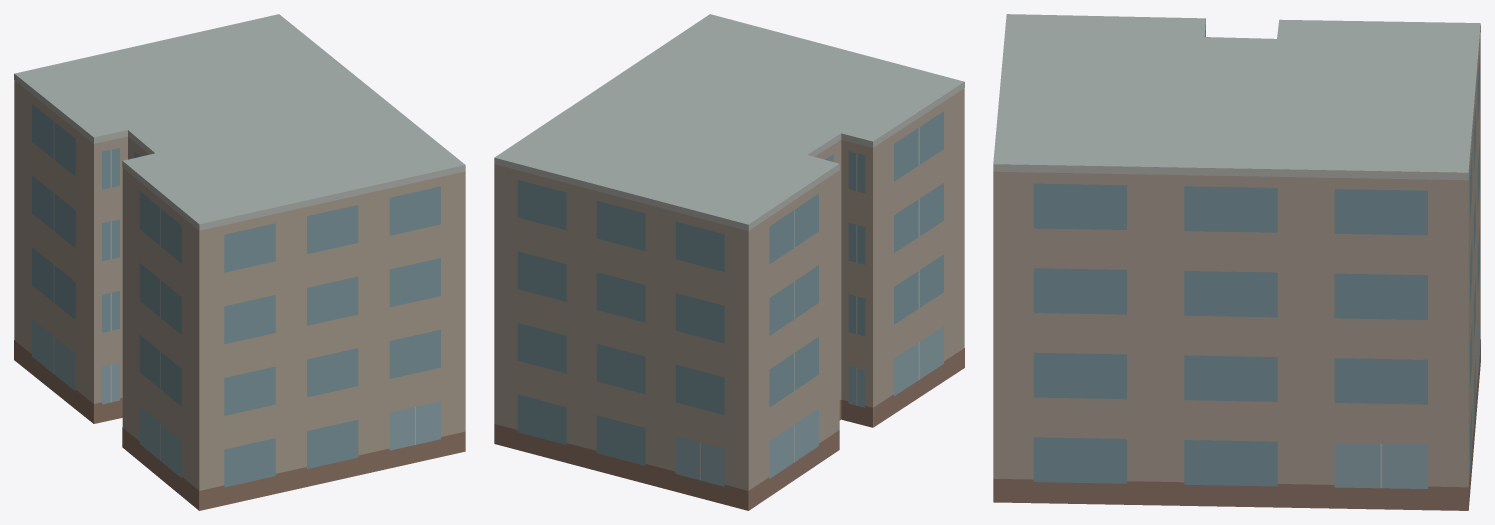
File: survey-upis-32703098.glb
The picture shows the model from 3 angles, left to right: view 1: azimuth 30°, elevation 25°; view 2: azimuth 150°, elevation 25°; view 3: azimuth 270°, elevation 25°; orthographic projection. The views are drawn at different scales.
Parts seen in each view (by area): view 1: survey-upis-32703098.tmp; view 2: survey-upis-32703098.tmp; view 3: survey-upis-32703098.tmp.
Part boxes in pixels (x1,y1,x2,y2): survey-upis-32703098.tmp: (14,14,465,510); survey-upis-32703098.tmp: (494,14,964,510); survey-upis-32703098.tmp: (993,14,1480,510).
Size of the model in its own units: 10.97 by 10.9 by 14.25.
